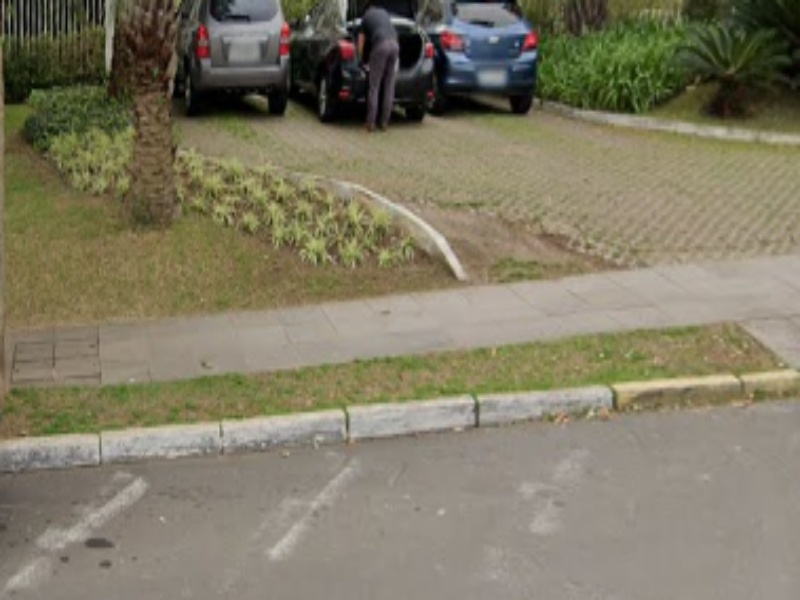v26: (5, 354, 705, 486)
